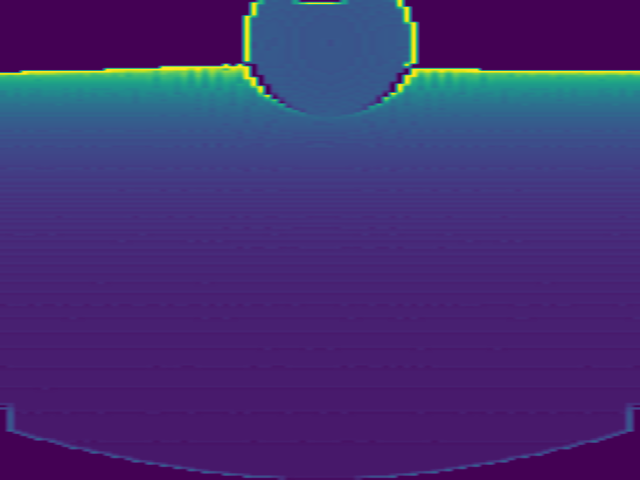sphere: (241, 1, 418, 118)
